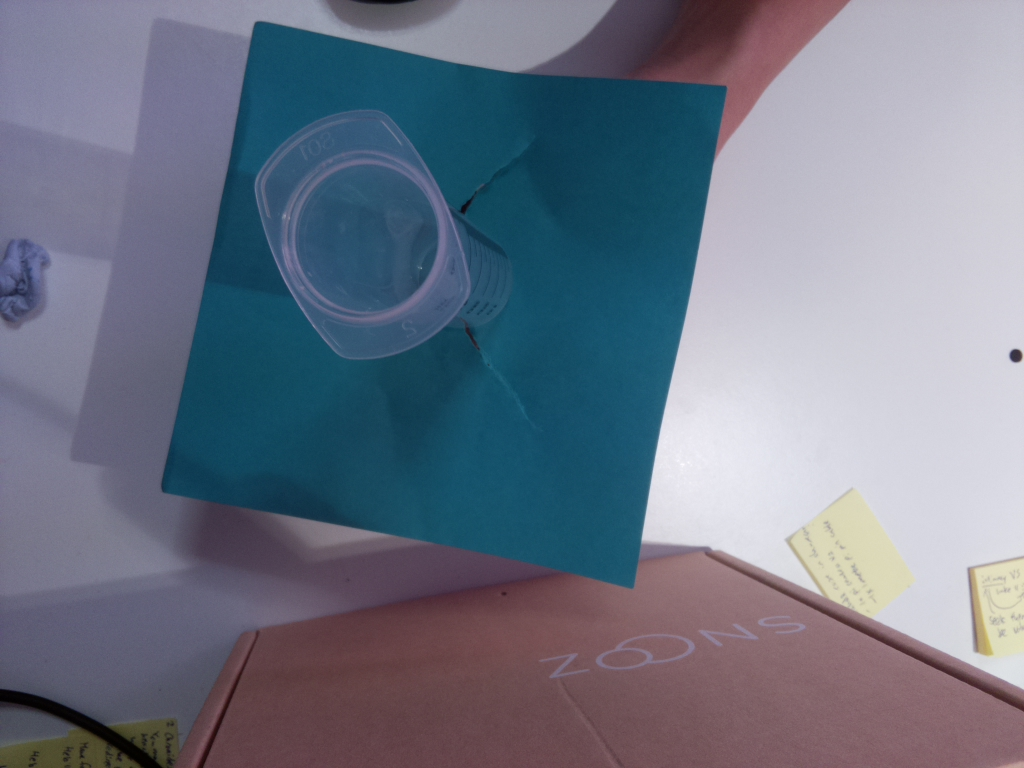clean: (248, 106, 473, 360)
